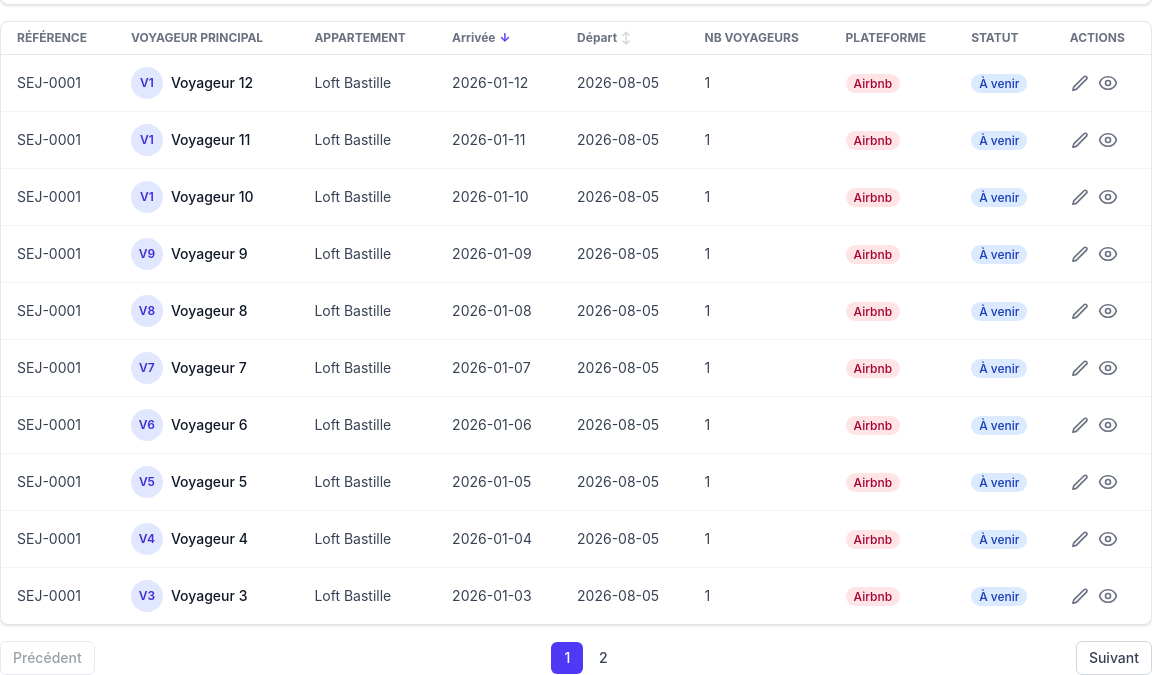
it: SejoursListeSection › affiche la pagination et change de page
(page scrolled)
Expected: the button "Précédent" is disabled, [0, 641, 95, 674]
Click the button "2".
click(603, 658)  # box [587, 642, 619, 674]
(page scrolled)
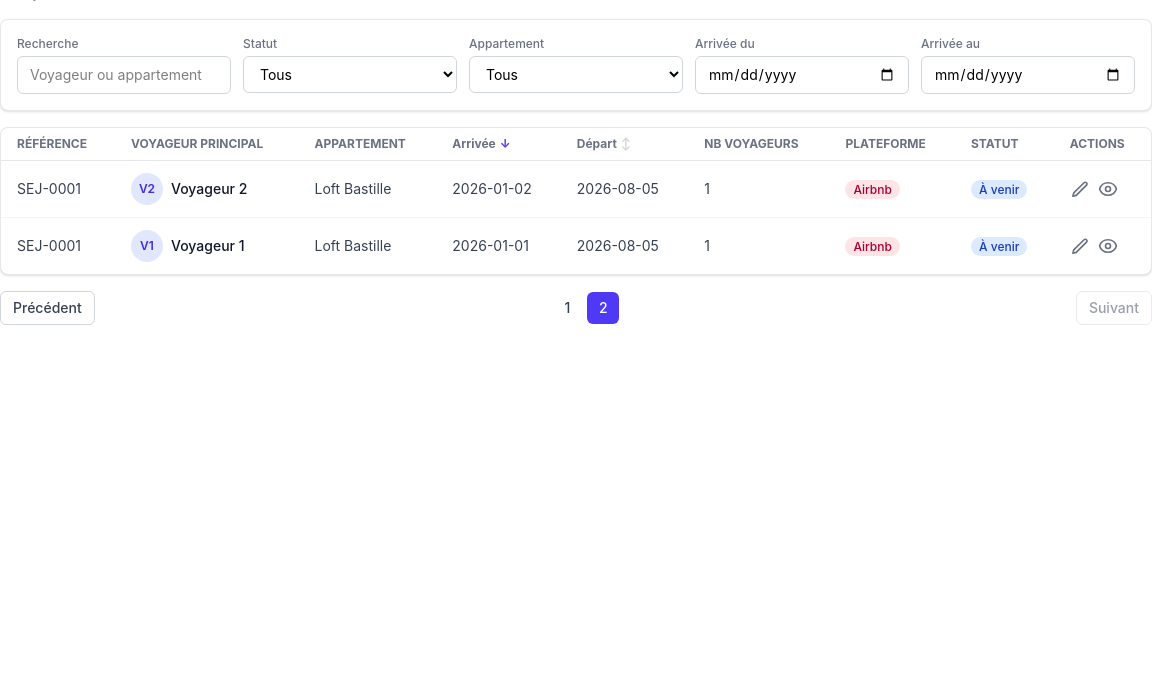
Expected: the number of rows is 3, [1, 128, 1151, 160]; [1, 160, 1151, 218]; [1, 218, 1151, 274]
Now the button "Suivant" is disabled, box [1076, 291, 1151, 325]
